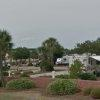Tree: (28, 31, 65, 76)
